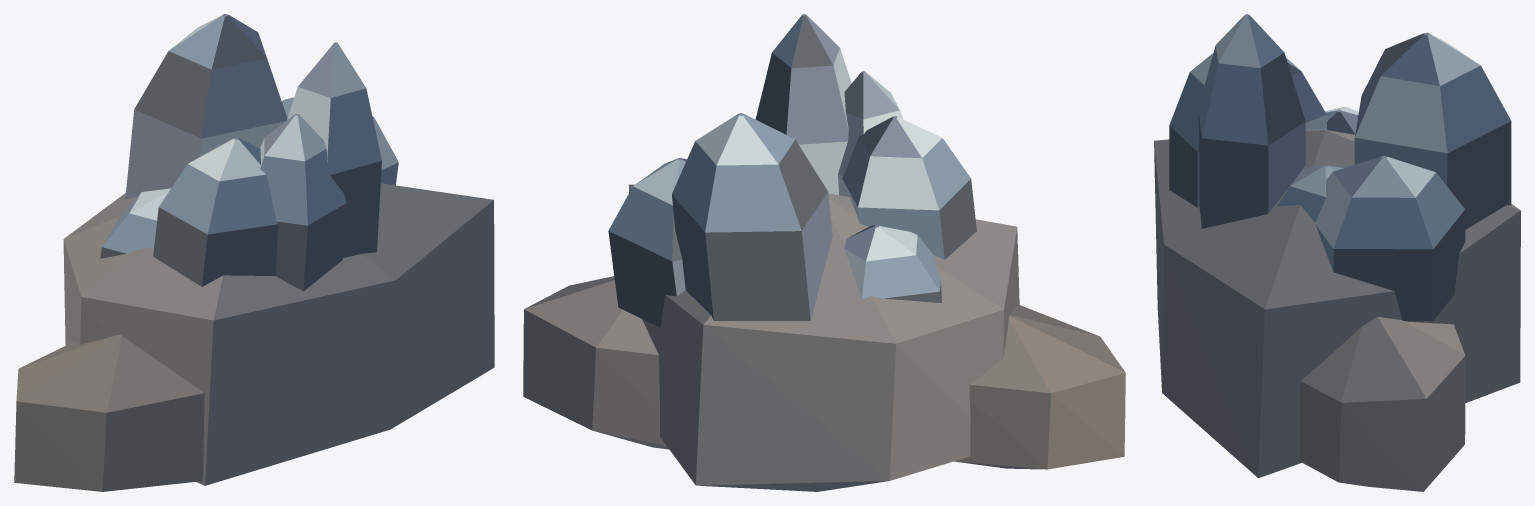
Rendered from extension_node_11.glb.
3 views of the same model, side by side, from view 1: azimuth 30°, elevation 25°; view 2: azimuth 150°, elevation 25°; view 3: azimuth 270°, elevation 25° (orthographic). The views are drawn at different scales.
Visible parts, largest first — view 1: extension_node_11; view 2: extension_node_11; view 3: extension_node_11.
Boxes of the visible parts, left/top/right/bottom form: extension_node_11: left=14, top=14, right=494, bottom=491; extension_node_11: left=523, top=14, right=1125, bottom=491; extension_node_11: left=1154, top=14, right=1520, bottom=491.
Bounding box in the file's own units: 1.58 × 1.28 × 0.9422.
